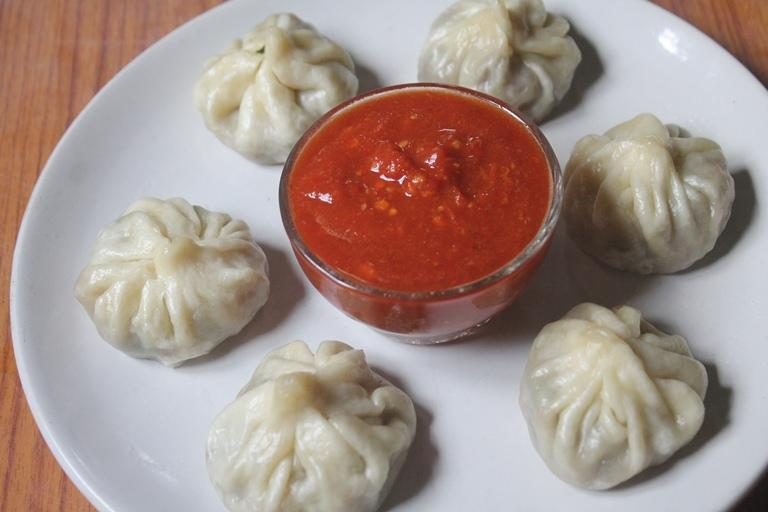momos: (206, 340, 416, 512), (519, 303, 708, 489), (74, 198, 268, 365), (562, 114, 735, 274), (192, 14, 358, 164), (418, 0, 580, 122)
